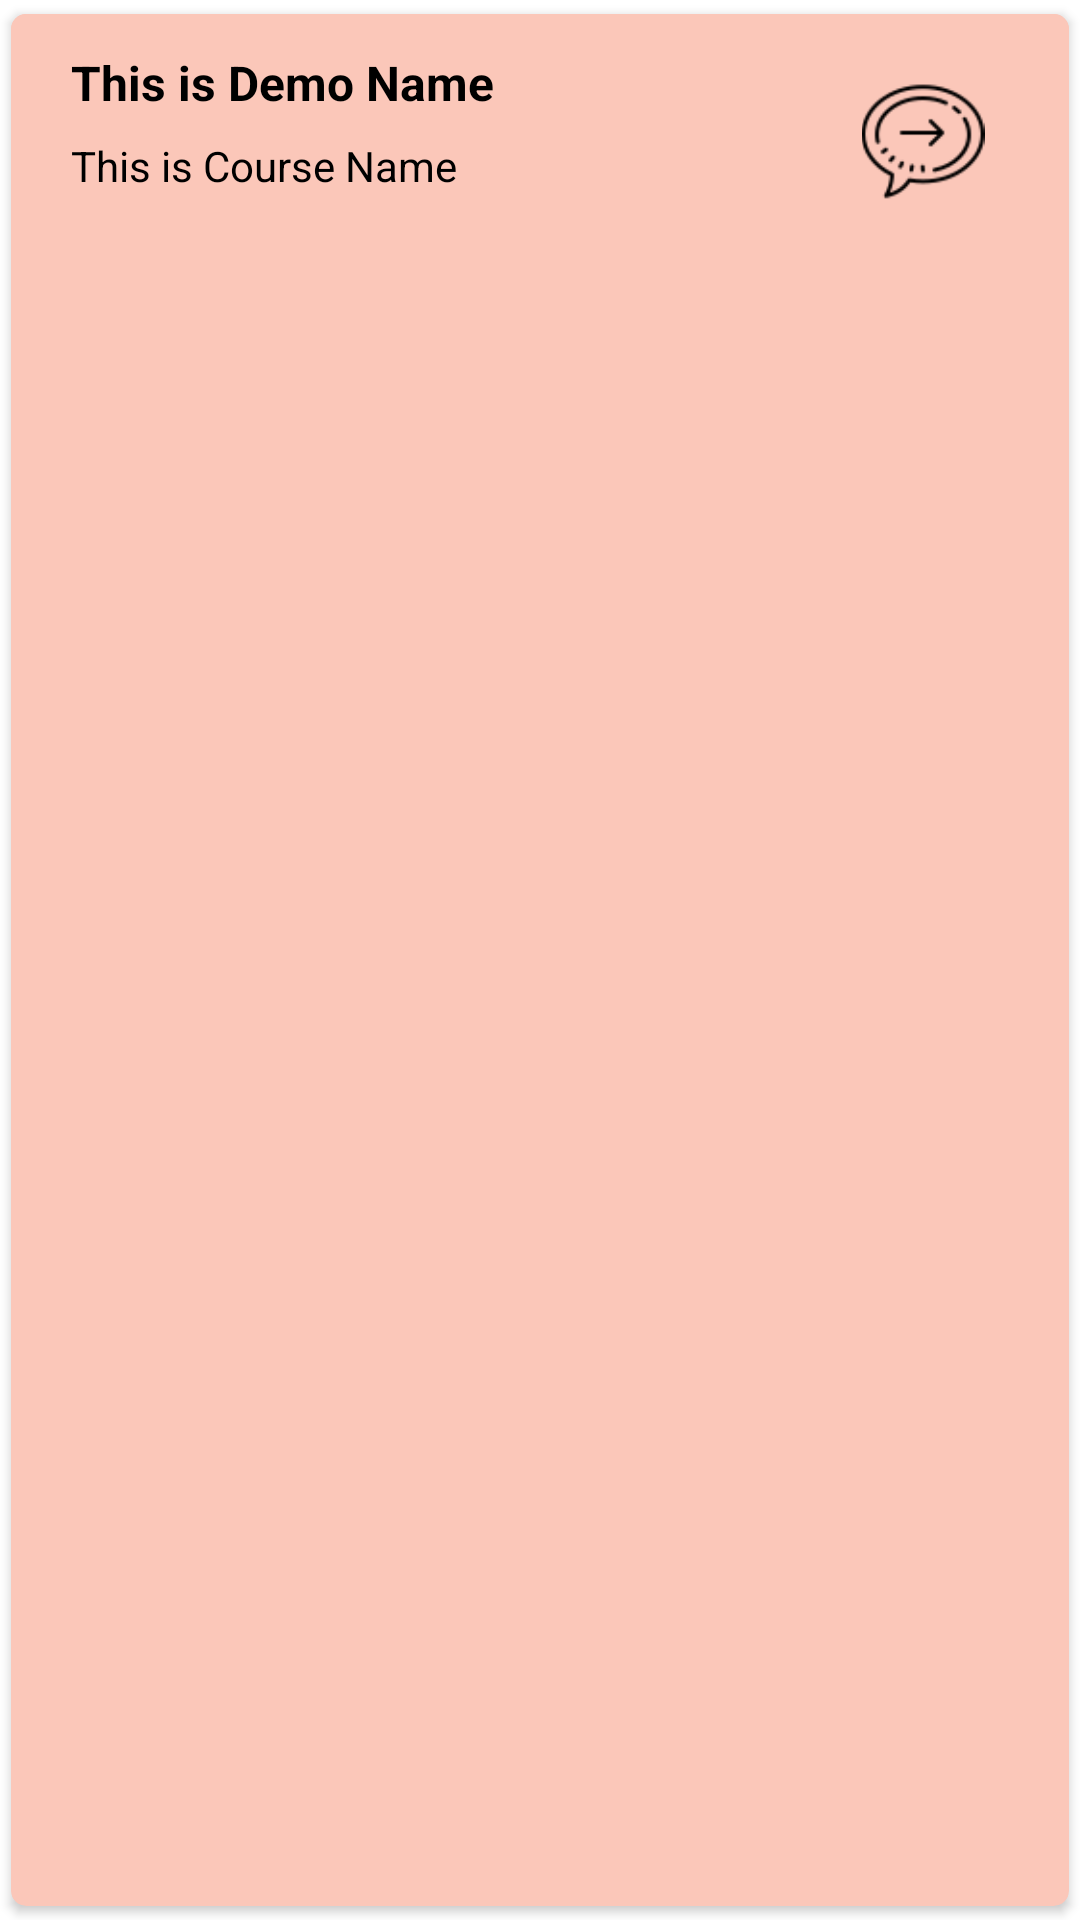

Named icons in this screenshot (1080×1920) and their bounding boxes, bbox=(x1, y1, x2, y2):
iconsmasg: bbox=(862, 84, 985, 199)
